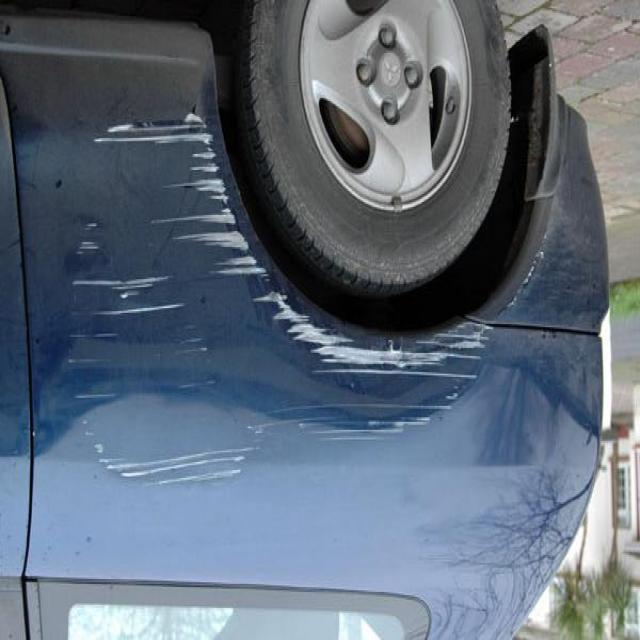scratch: (64, 110, 262, 487), (278, 267, 500, 447)
